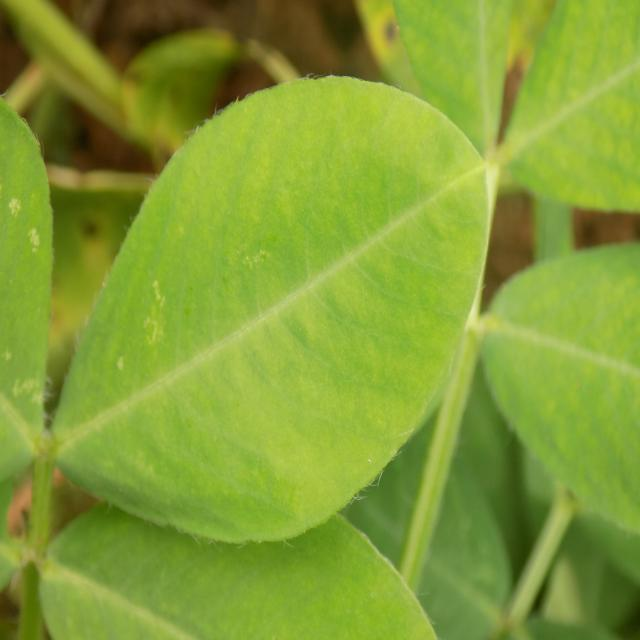Ground nut_healthy: (44, 75, 488, 543)
